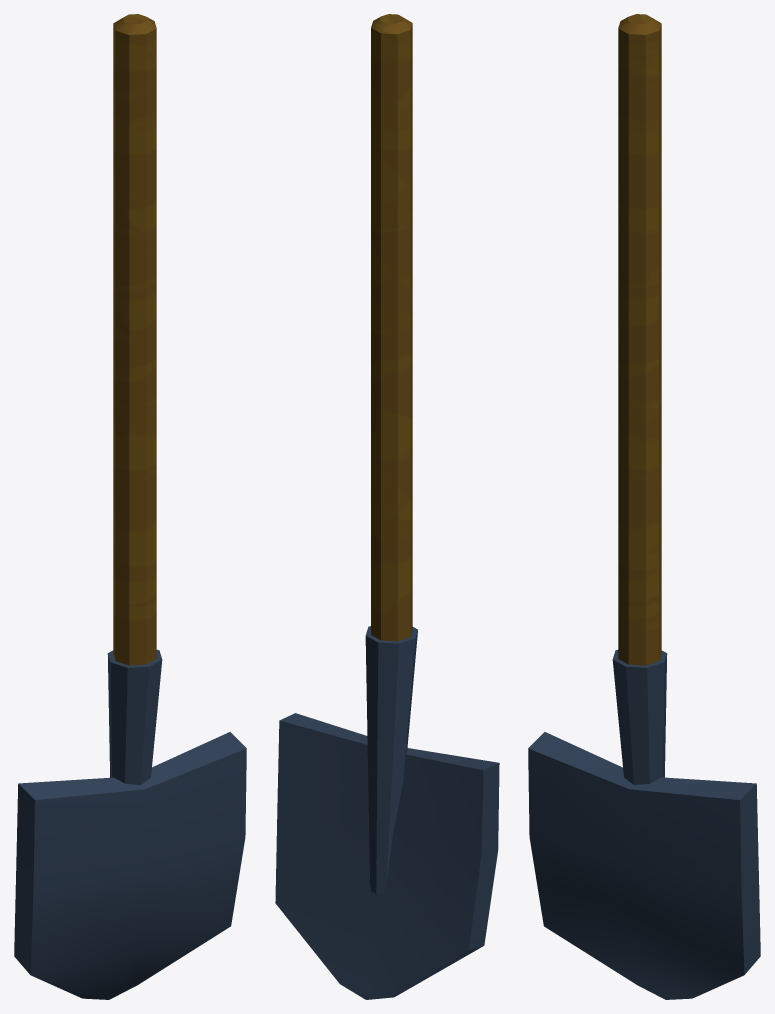
File: shovel.fbx
3 views of the same model, side by side, from view 1: azimuth 30°, elevation 25°; view 2: azimuth 150°, elevation 25°; view 3: azimuth 330°, elevation 25° (orthographic). The views are drawn at different scales.
Parts seen in each view (by area): view 1: shovel; view 2: shovel; view 3: shovel.
Boxes of the visible parts, x1,y1,x2,y2 form: shovel: (14,14,246,999); shovel: (275,14,499,999); shovel: (528,14,760,999).
Bounding box in the file's own units: 57.1 × 257 × 19.43.
